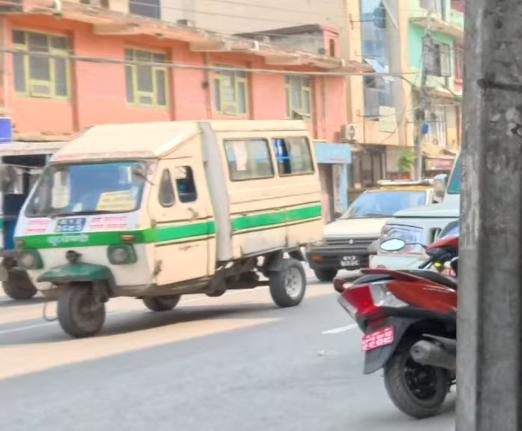scooter: (332, 228, 472, 419)
taxi: (307, 177, 453, 281)
tempo: (14, 109, 334, 349)
